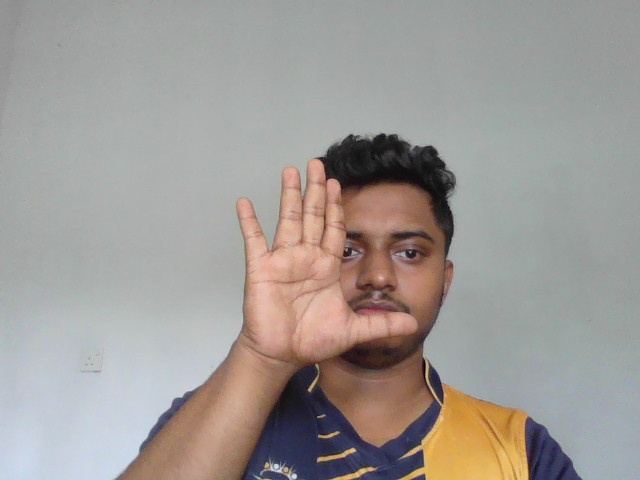Hello: (234, 156, 420, 367)
